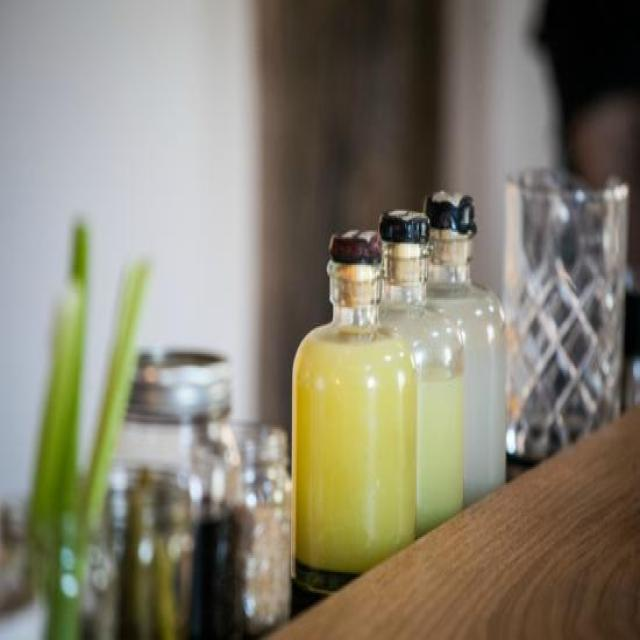glass bottle: (291, 232, 419, 605), (380, 207, 466, 535), (424, 192, 510, 509)
